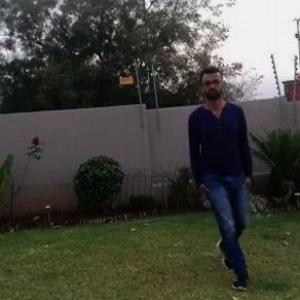follow: (158, 52, 245, 299)
